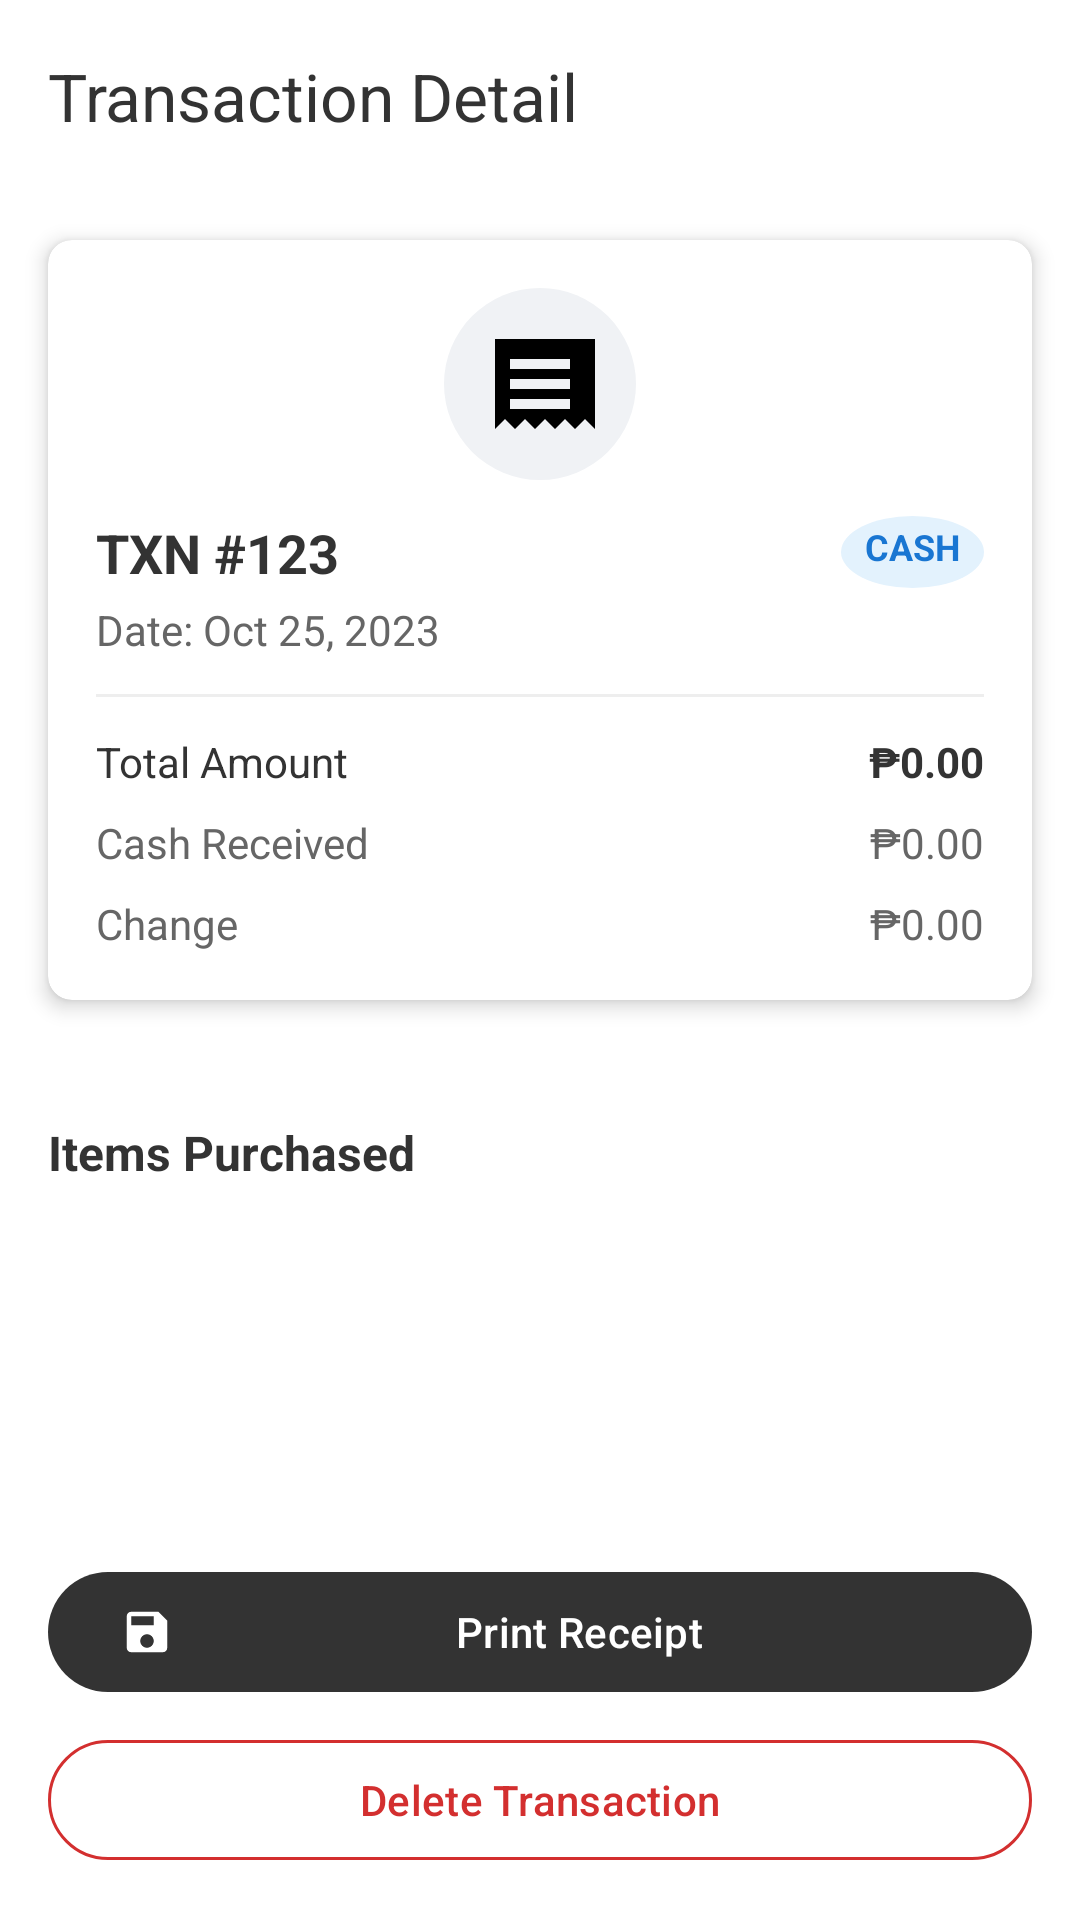

Screen size 1080px x 1920px. Icon name, then its center in pixels as (x,y):
receipt: (545,384)
